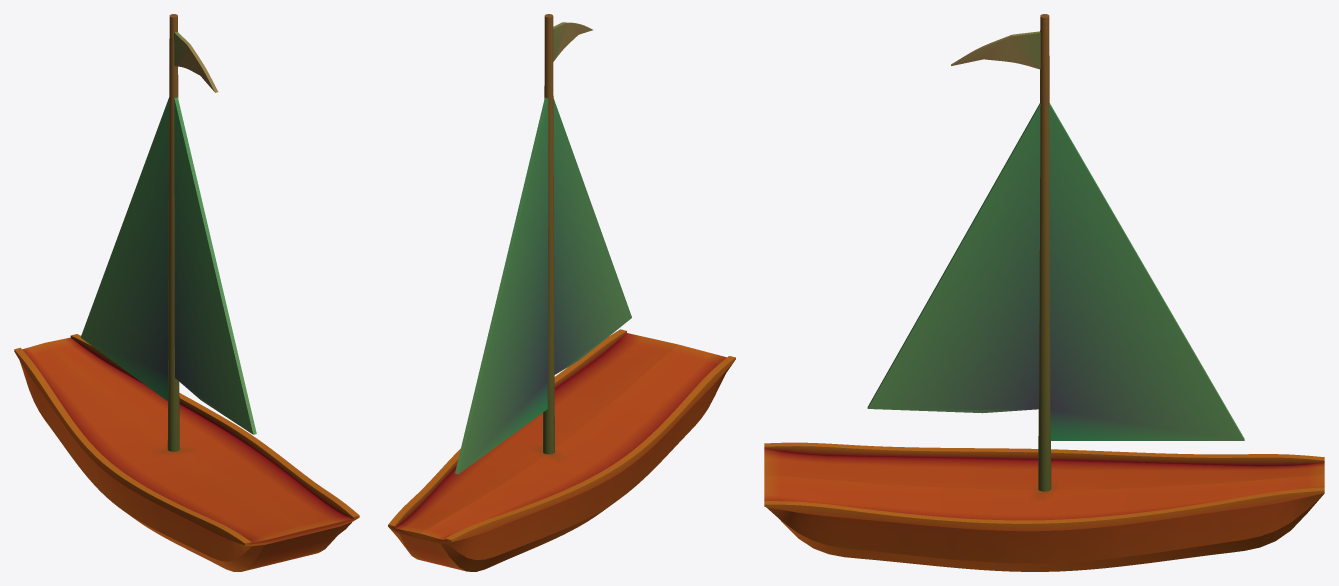
3 views of the same model, side by side, from view 1: azimuth 30°, elevation 25°; view 2: azimuth 150°, elevation 25°; view 3: azimuth 270°, elevation 25° (orthographic). The views are drawn at different scales.
Parts seen in each view (by area): view 1: wooden_hull, canvas, pole, flag; view 2: wooden_hull, canvas, pole, flag; view 3: canvas, wooden_hull, pole, flag.
Part boxes in pixels (x1,y1,x2,y2): wooden_hull: (14,334,359,571); canvas: (80,97,256,434); pole: (167,14,179,451); flag: (174,31,218,92); wooden_hull: (388,329,735,571); canvas: (455,97,631,474); pole: (543,14,554,454); flag: (553,22,592,61); canvas: (867,103,1244,440); wooden_hull: (764,442,1324,571); pole: (1038,14,1051,491); flag: (951,31,1040,69).
Bounding box in the file's own units: 1.52 × 5 × 4.77.
